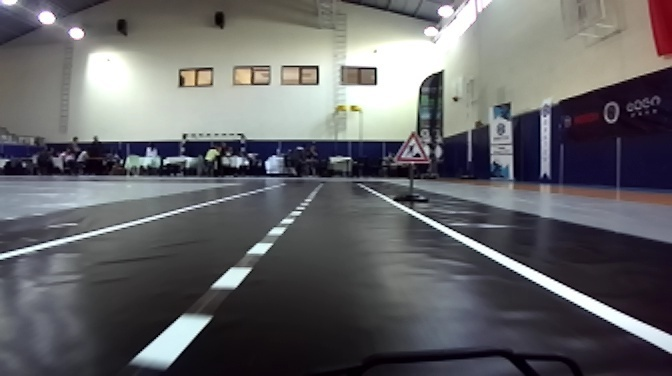yol_yapimi: (387, 129, 431, 169)
